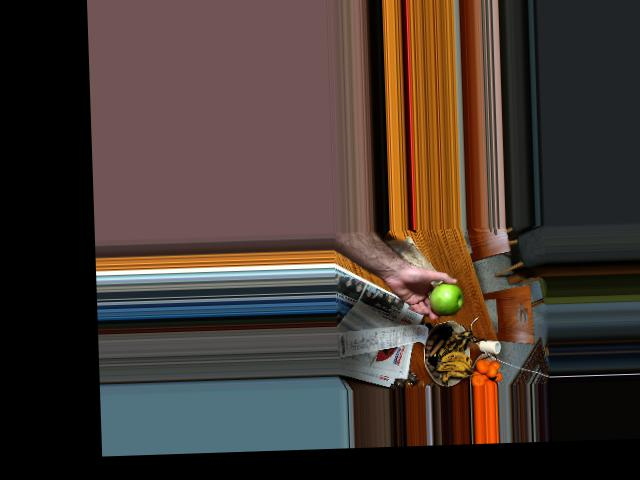apple: (430, 282, 465, 317)
